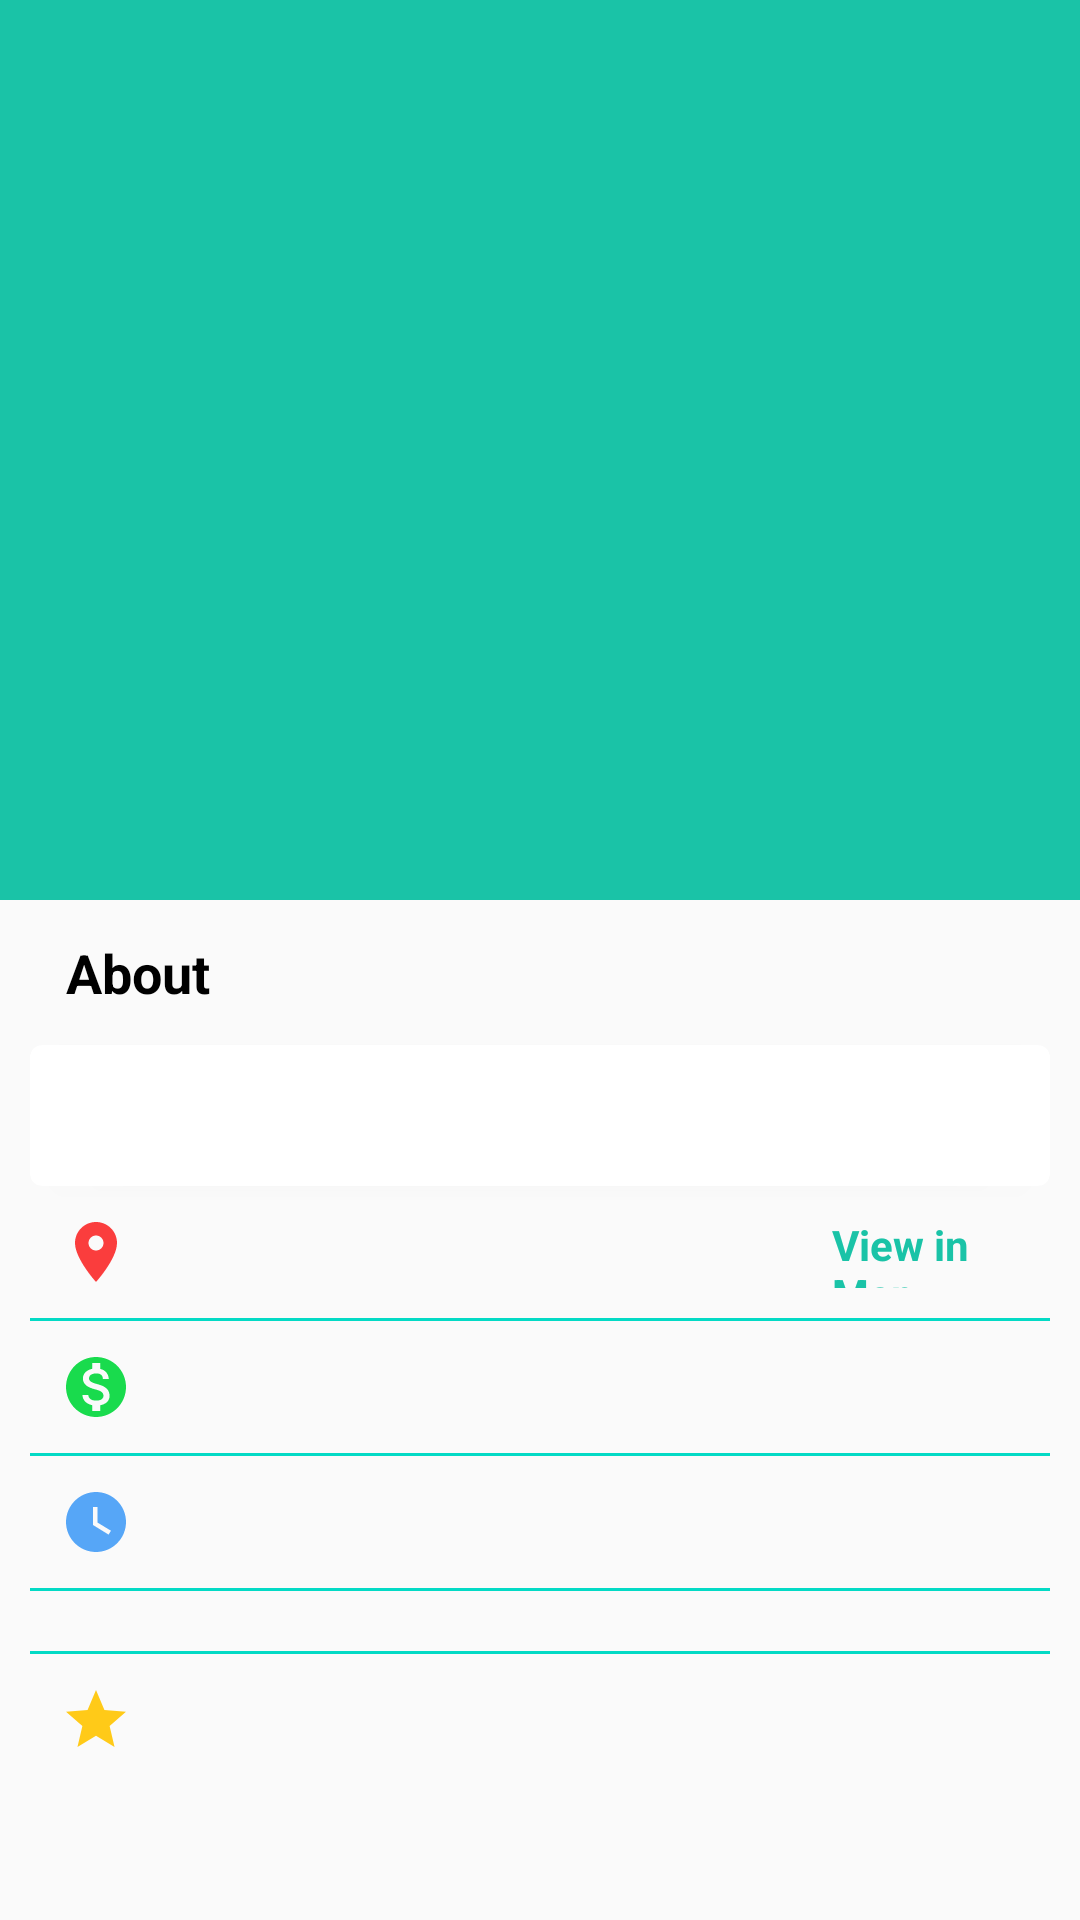

Screen size 1080*1920. Icon name, then its center in pixels as (x=x, y=y):
location on: (x=96, y=1252)
monetization on: (x=96, y=1387)
star: (x=96, y=1718)
watch later: (x=96, y=1522)
